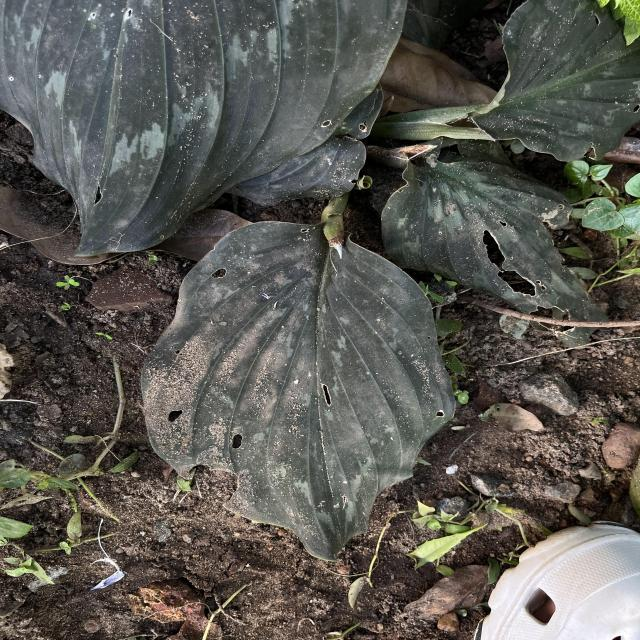Kaempferia galanga linn: (137, 218, 457, 566)
